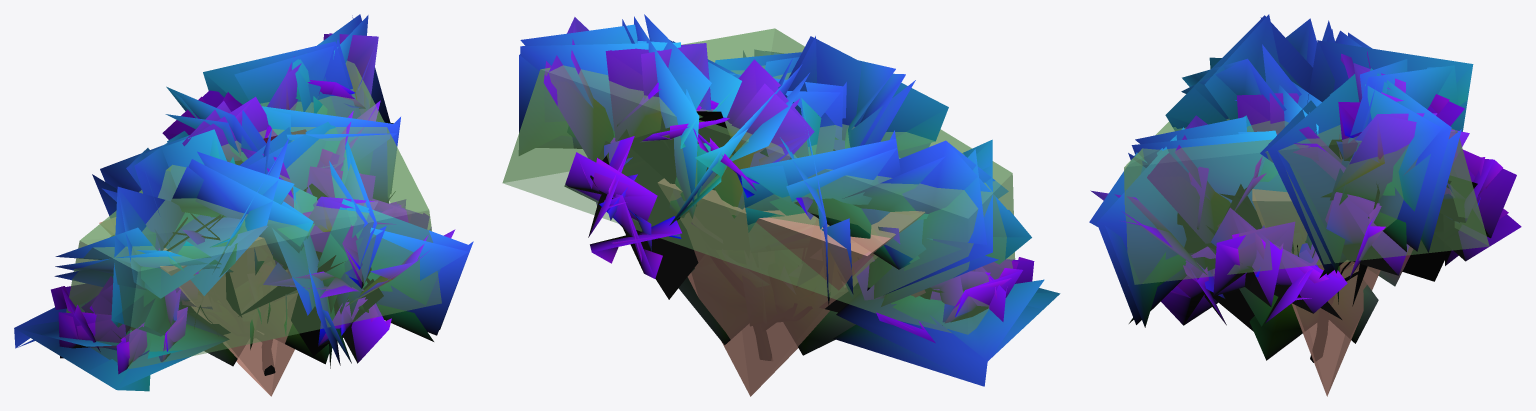
Rendered from maritime_pine_bush.dae.
3 views of the same model, side by side, from view 1: azimuth 30°, elevation 25°; view 2: azimuth 150°, elevation 25°; view 3: azimuth 270°, elevation 25° (orthographic). The views are drawn at different scales.
Visible parts, largest first — view 1: Colmesh-1, maritime_pine_bush_b1000, maritime_pine_bush_b220; view 2: maritime_pine_bush_b1000, Colmesh-1, maritime_pine_bush_b220; view 3: maritime_pine_bush_b1000, maritime_pine_bush_b220, Colmesh-1.
Part boxes in pixels (x1,y1,x2,y2): Colmesh-1: [66, 31, 441, 396]; maritime_pine_bush_b1000: [15, 15, 473, 391]; maritime_pine_bush_b220: [14, 14, 470, 389]; maritime_pine_bush_b1000: [519, 14, 1059, 386]; Colmesh-1: [502, 28, 1015, 396]; maritime_pine_bush_b220: [520, 16, 1059, 386]; maritime_pine_bush_b1000: [1089, 14, 1508, 362]; maritime_pine_bush_b220: [1093, 15, 1521, 349]; Colmesh-1: [1124, 118, 1489, 396].
Bounding box in the file's own units: 6.01 × 5.03 × 4.69.
